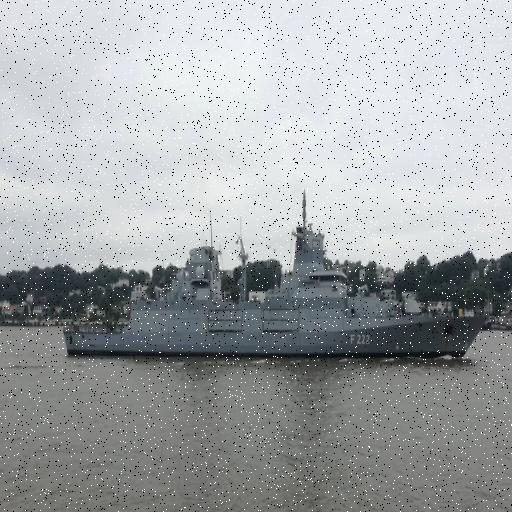Fragata: (59, 179, 496, 367)
